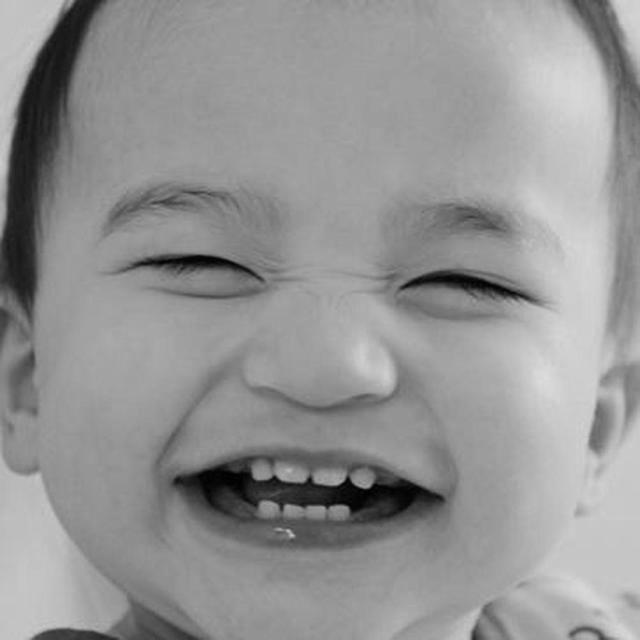real: (35, 26, 614, 635), (114, 166, 567, 345)
